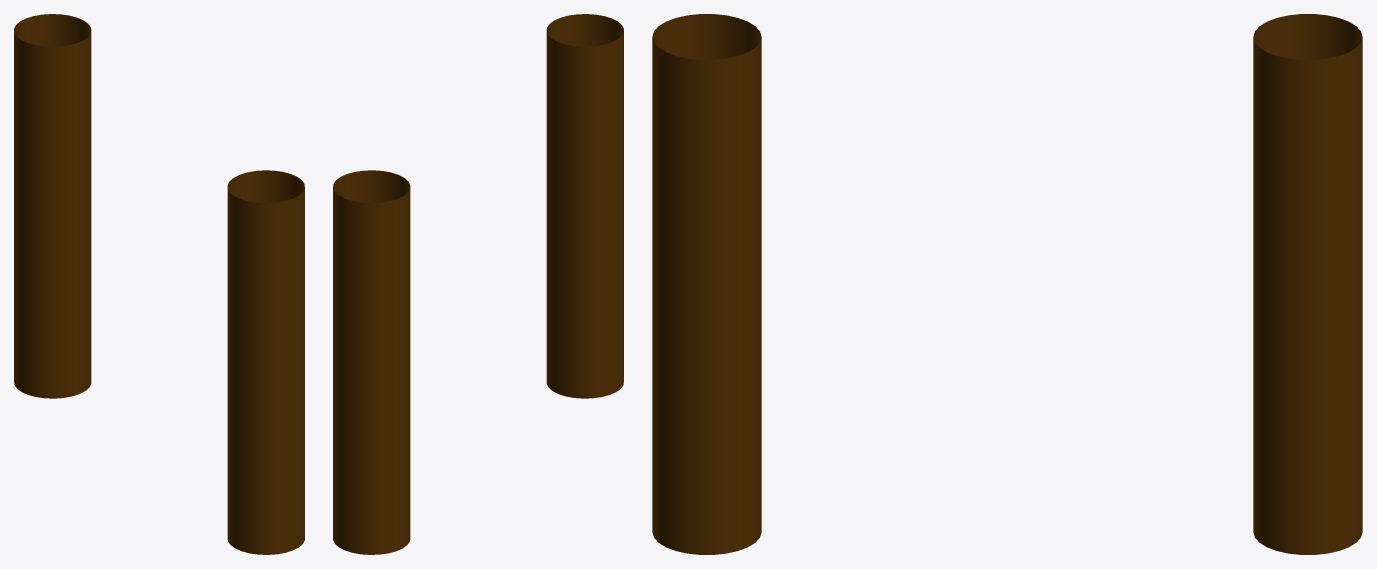
File: Track_Bridge_Center_Posts_1x1.obj
The picture shows the model from 3 angles, left to right: view 1: azimuth 30°, elevation 25°; view 2: azimuth 150°, elevation 25°; view 3: azimuth 270°, elevation 25°; orthographic projection. The views are drawn at different scales.
Visible parts, largest first — view 1: object1, object2; view 2: object1, object2; view 3: object1, object2.
Part boxes in pixels (box(x1,y1,x2,y2)): object1: box(227, 170, 304, 554); object2: box(14, 14, 91, 398); object1: box(546, 14, 623, 398); object2: box(333, 170, 410, 554); object1: box(652, 14, 761, 554); object2: box(1253, 14, 1362, 554).
Bounding box in the file's own units: 0.1985 × 1 × 1.3.
